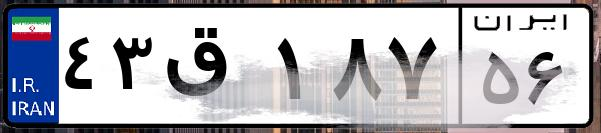1: (270, 28, 330, 110)
3: (110, 28, 158, 98)
4: (57, 26, 110, 100)
5: (475, 38, 525, 113)
6: (525, 38, 570, 115)
7: (385, 28, 445, 110)
8: (330, 28, 385, 110)
ق: (158, 20, 270, 120)
